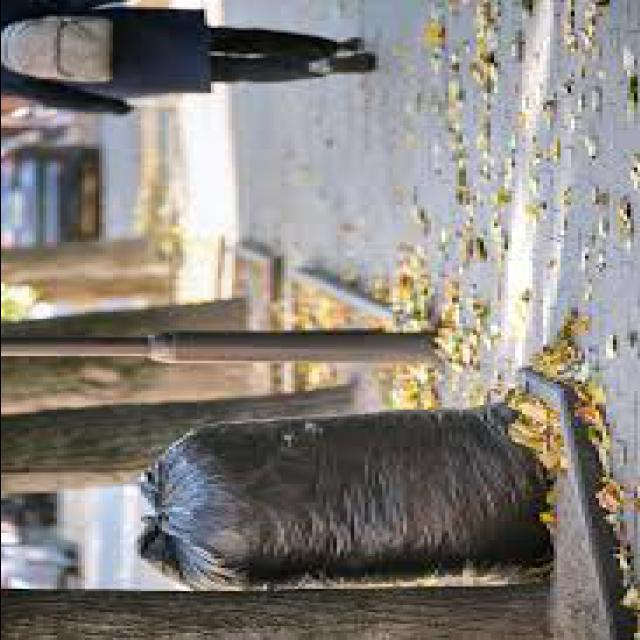Trashbag: (136, 401, 558, 598)
